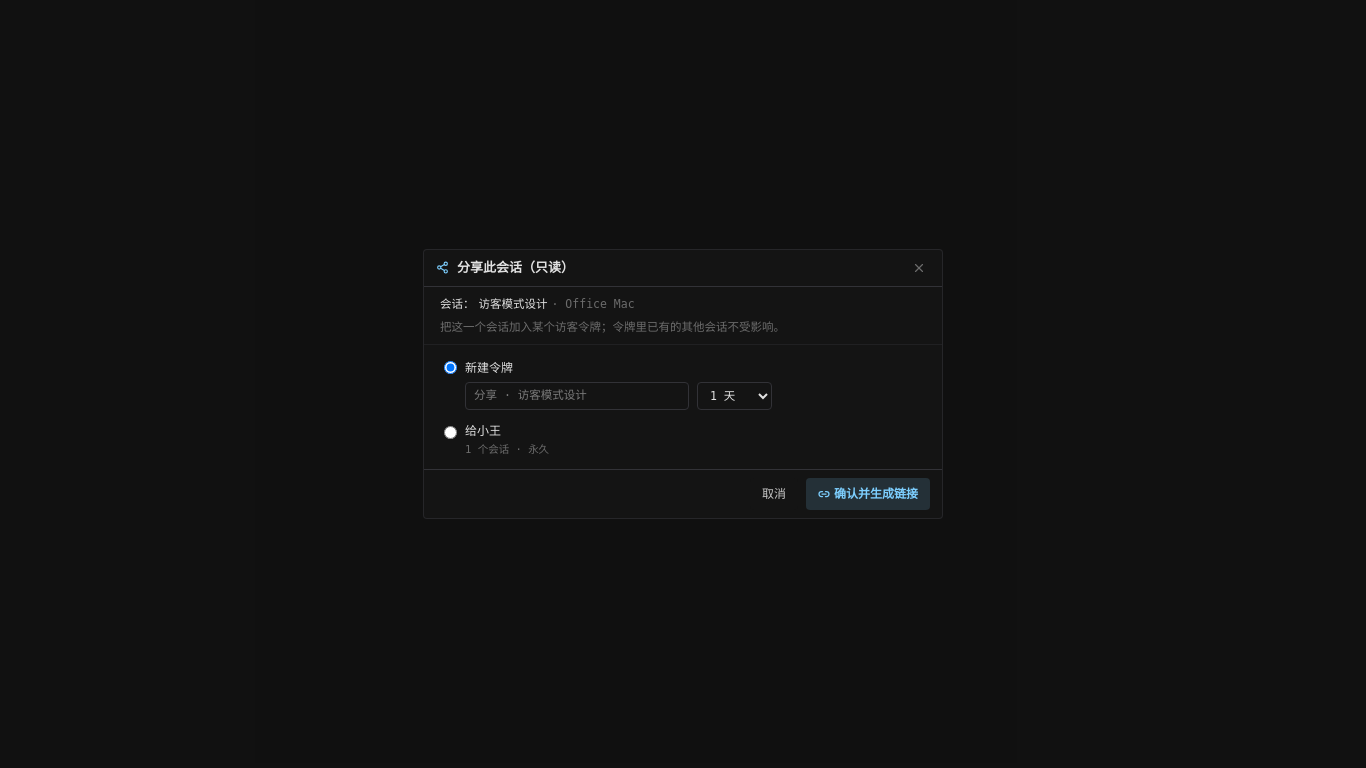
Test case: ShareGuestModal › 令牌已包含该会话：不进写入路径，直接展示链接
Click the text "给小王" at (483, 432), box top-left (465, 422), bottom-right (501, 441)
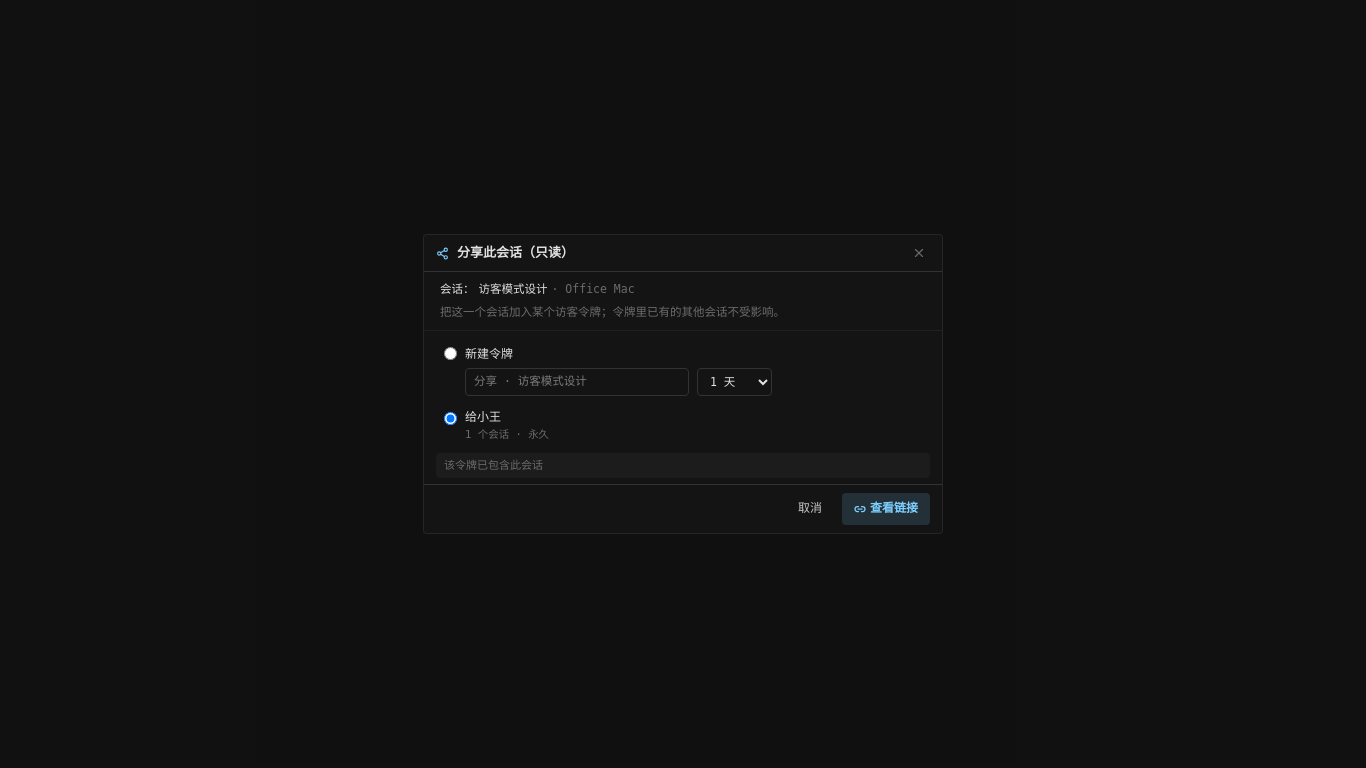
Check: the text "该令牌已包含此会话" is shown, box top-left (436, 452), bottom-right (930, 478)
Click the button "查看链接" at (886, 509), box top-left (842, 493), bottom-right (930, 525)
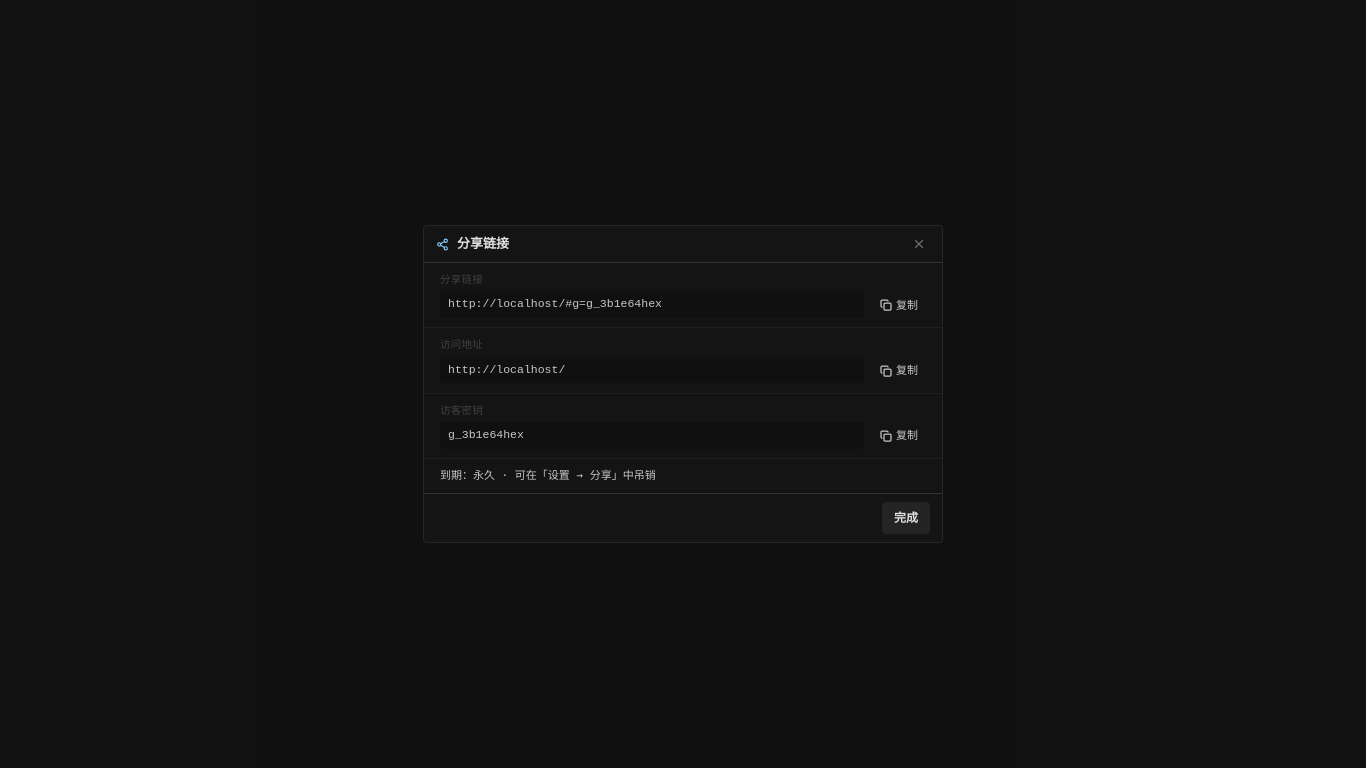
Check: the text titled "http://localhost/#g=g_3b1e64hex" is shown, box top-left (440, 291), bottom-right (864, 318)
